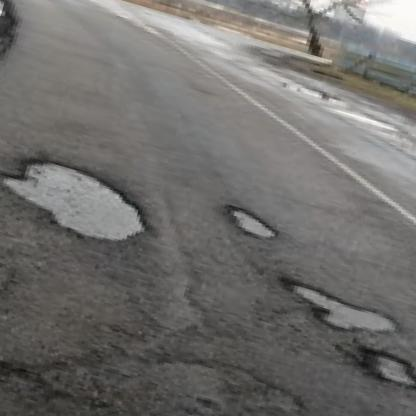pothole: (0, 144, 159, 253), (268, 273, 407, 345), (358, 341, 416, 395), (221, 202, 286, 247)
